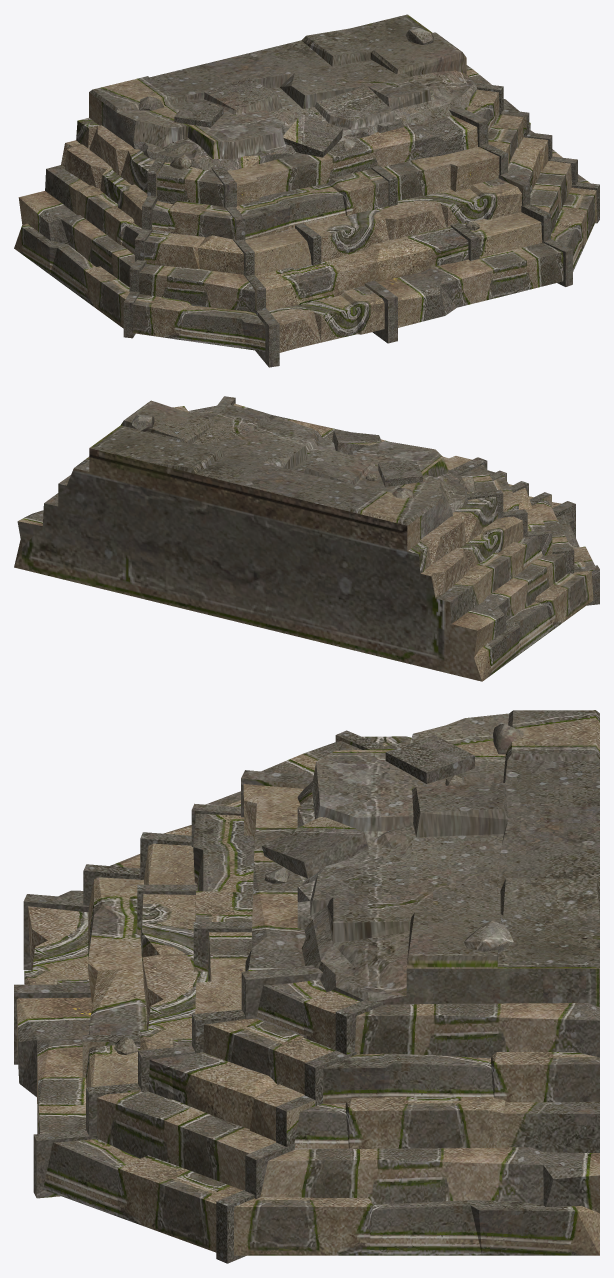
The model's file is bg_lut_lutomb_brokenstair02_sm_old.FBX.
3 renders of one model, top to bottom at view 1: azimuth 30°, elevation 25°; view 2: azimuth 150°, elevation 25°; view 3: azimuth 270°, elevation 25°, orthographic. The views are drawn at different scales.
Parts seen in each view (by area): view 1: bg_lut_lutomb_brokenstair02_sm_old; view 2: bg_lut_lutomb_brokenstair02_sm_old; view 3: bg_lut_lutomb_brokenstair02_sm_old.
Part boxes in pixels (<box>): bg_lut_lutomb_brokenstair02_sm_old: <box>14,14,599,367</box>; bg_lut_lutomb_brokenstair02_sm_old: <box>14,396,599,681</box>; bg_lut_lutomb_brokenstair02_sm_old: <box>14,710,599,1263</box>.
Size of the model in its own units: 721 by 238 by 467.
